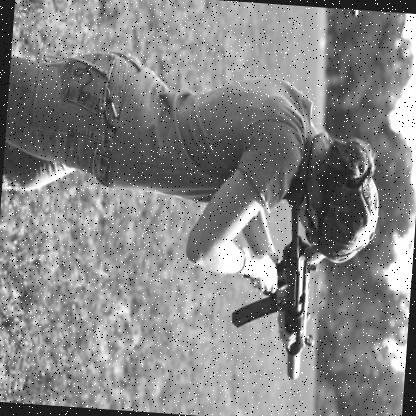rifle: (221, 175, 329, 386)
